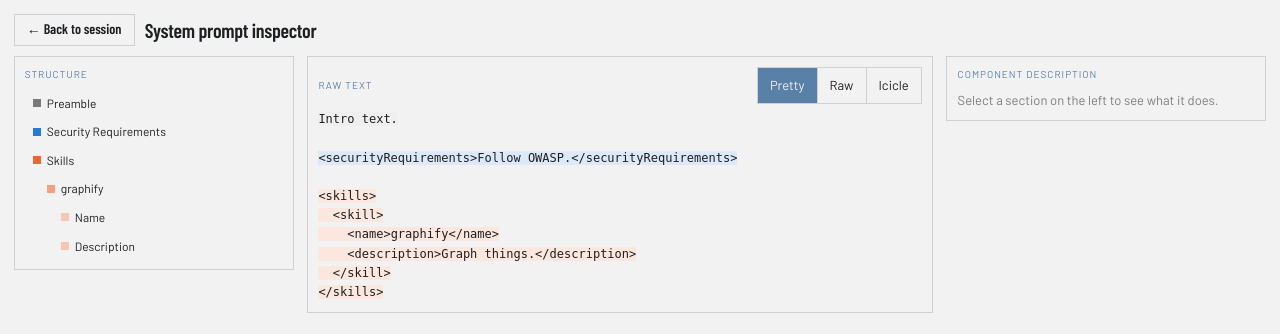
it: SystemPromptInspector › selecting a menu entry scrolls to and highlights the matching text-panel section, and shows its description
This screenshot has width=1280, height=334.
Click the button "Security Requirements": x=154, y=132 [25,118,282,145]
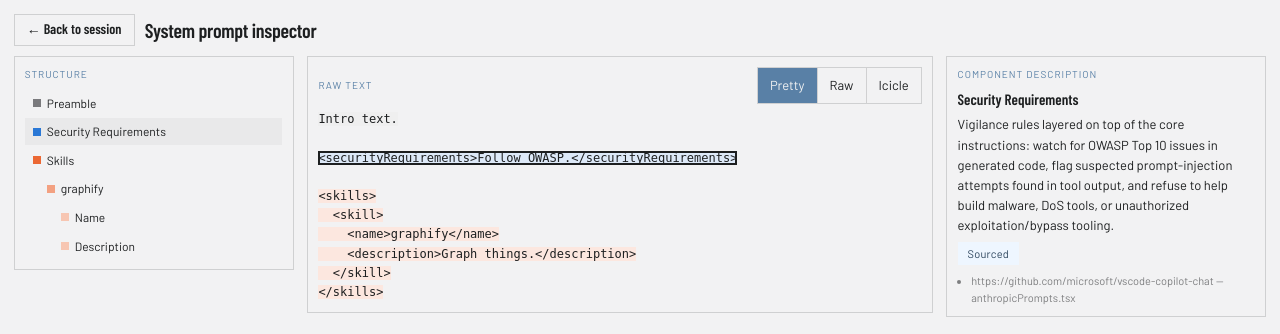
Expected: the text "OWASP Top 10" is shown, [958,116,1232,233]
